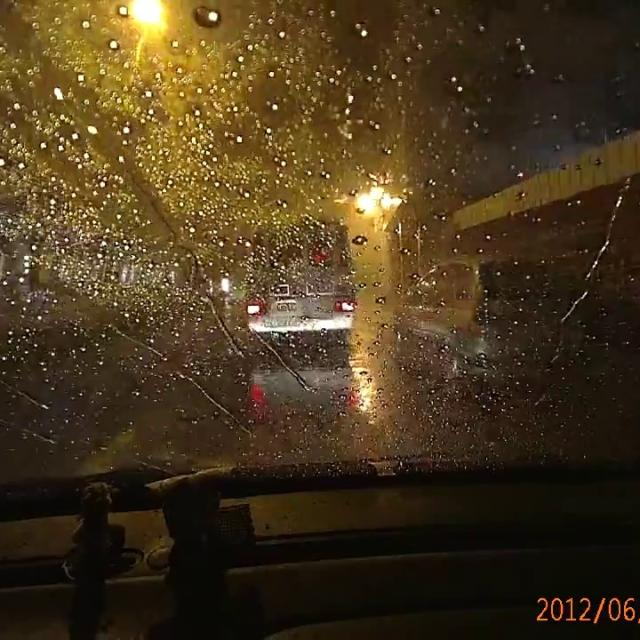Car: (384, 252, 598, 403)
